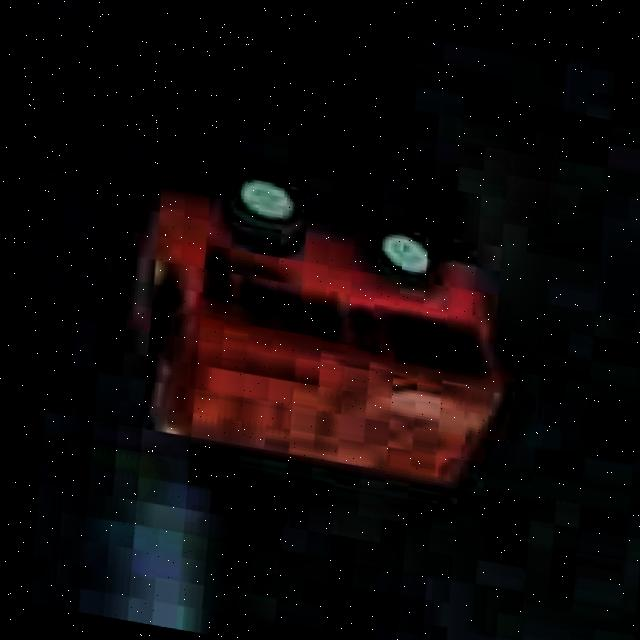bus: (87, 128, 540, 507)
